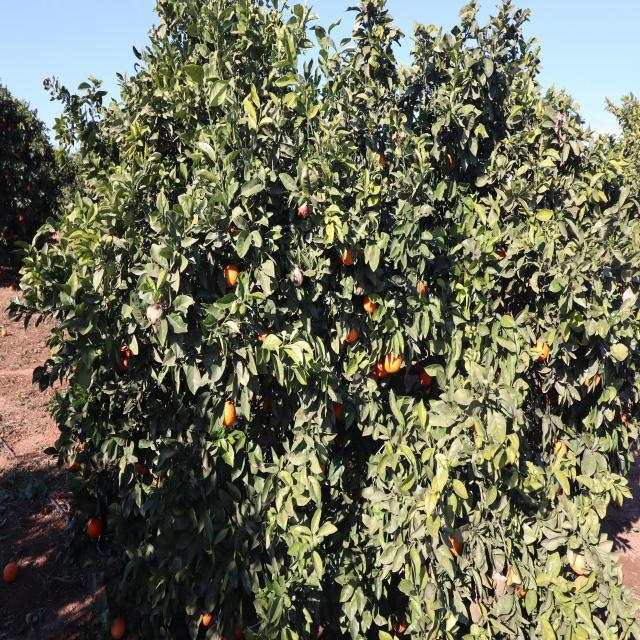Jeruk Sudah Matang: (338, 234, 362, 274), (220, 260, 243, 294), (217, 398, 240, 430), (115, 339, 137, 372), (253, 322, 274, 354), (532, 334, 554, 364), (148, 300, 168, 328), (415, 278, 433, 308), (344, 318, 362, 347), (109, 613, 128, 640), (87, 514, 105, 542), (367, 146, 388, 170), (386, 346, 404, 374), (446, 530, 464, 558), (416, 368, 442, 387), (554, 440, 573, 466), (296, 197, 312, 225), (200, 605, 220, 627), (234, 612, 249, 640), (515, 573, 529, 603), (374, 358, 392, 381), (543, 392, 557, 420), (441, 150, 456, 176), (362, 292, 380, 312), (366, 364, 382, 386), (78, 450, 92, 470), (68, 454, 80, 476), (622, 409, 630, 432), (550, 432, 560, 446), (18, 211, 26, 224), (4, 172, 12, 182), (27, 182, 32, 192), (29, 132, 34, 142), (8, 125, 14, 131), (16, 152, 20, 158), (22, 146, 26, 152), (42, 148, 46, 154)
